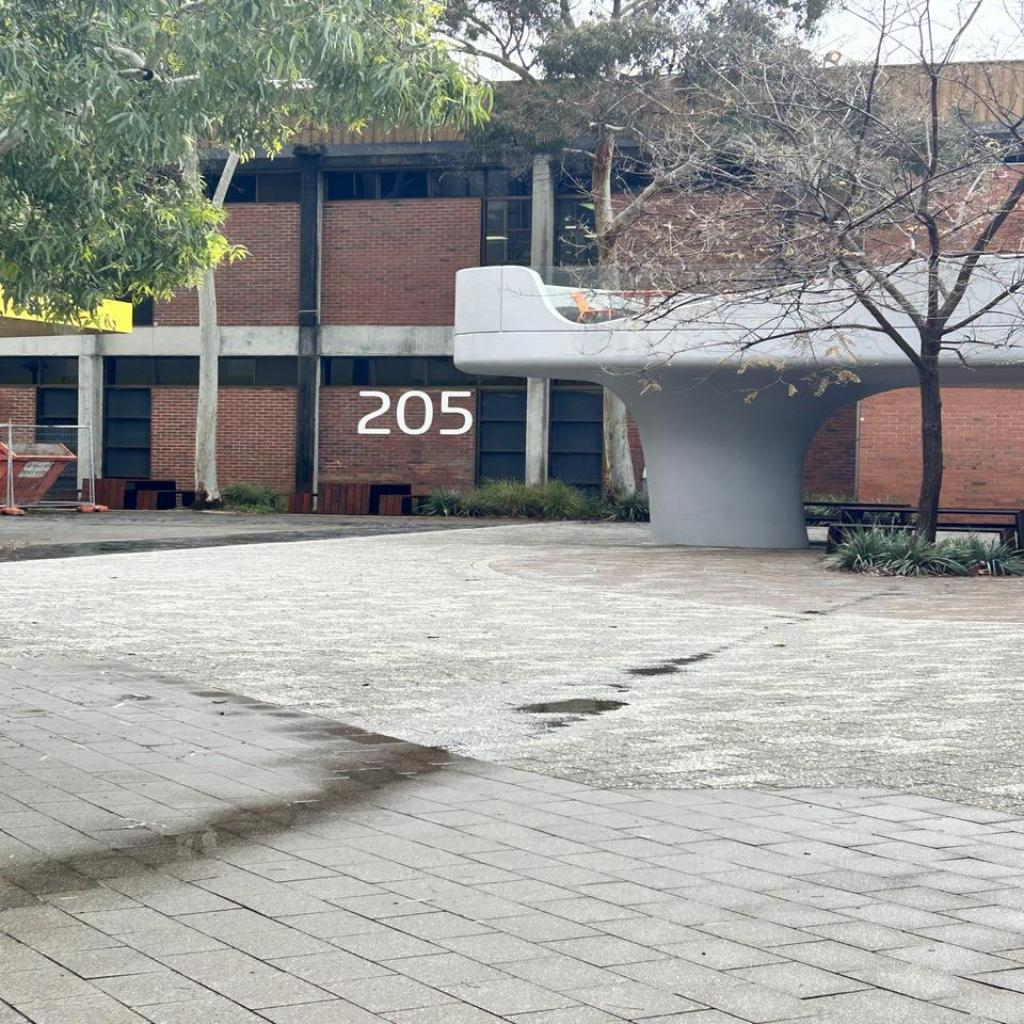BuildingCodes: (355, 386, 475, 438)
